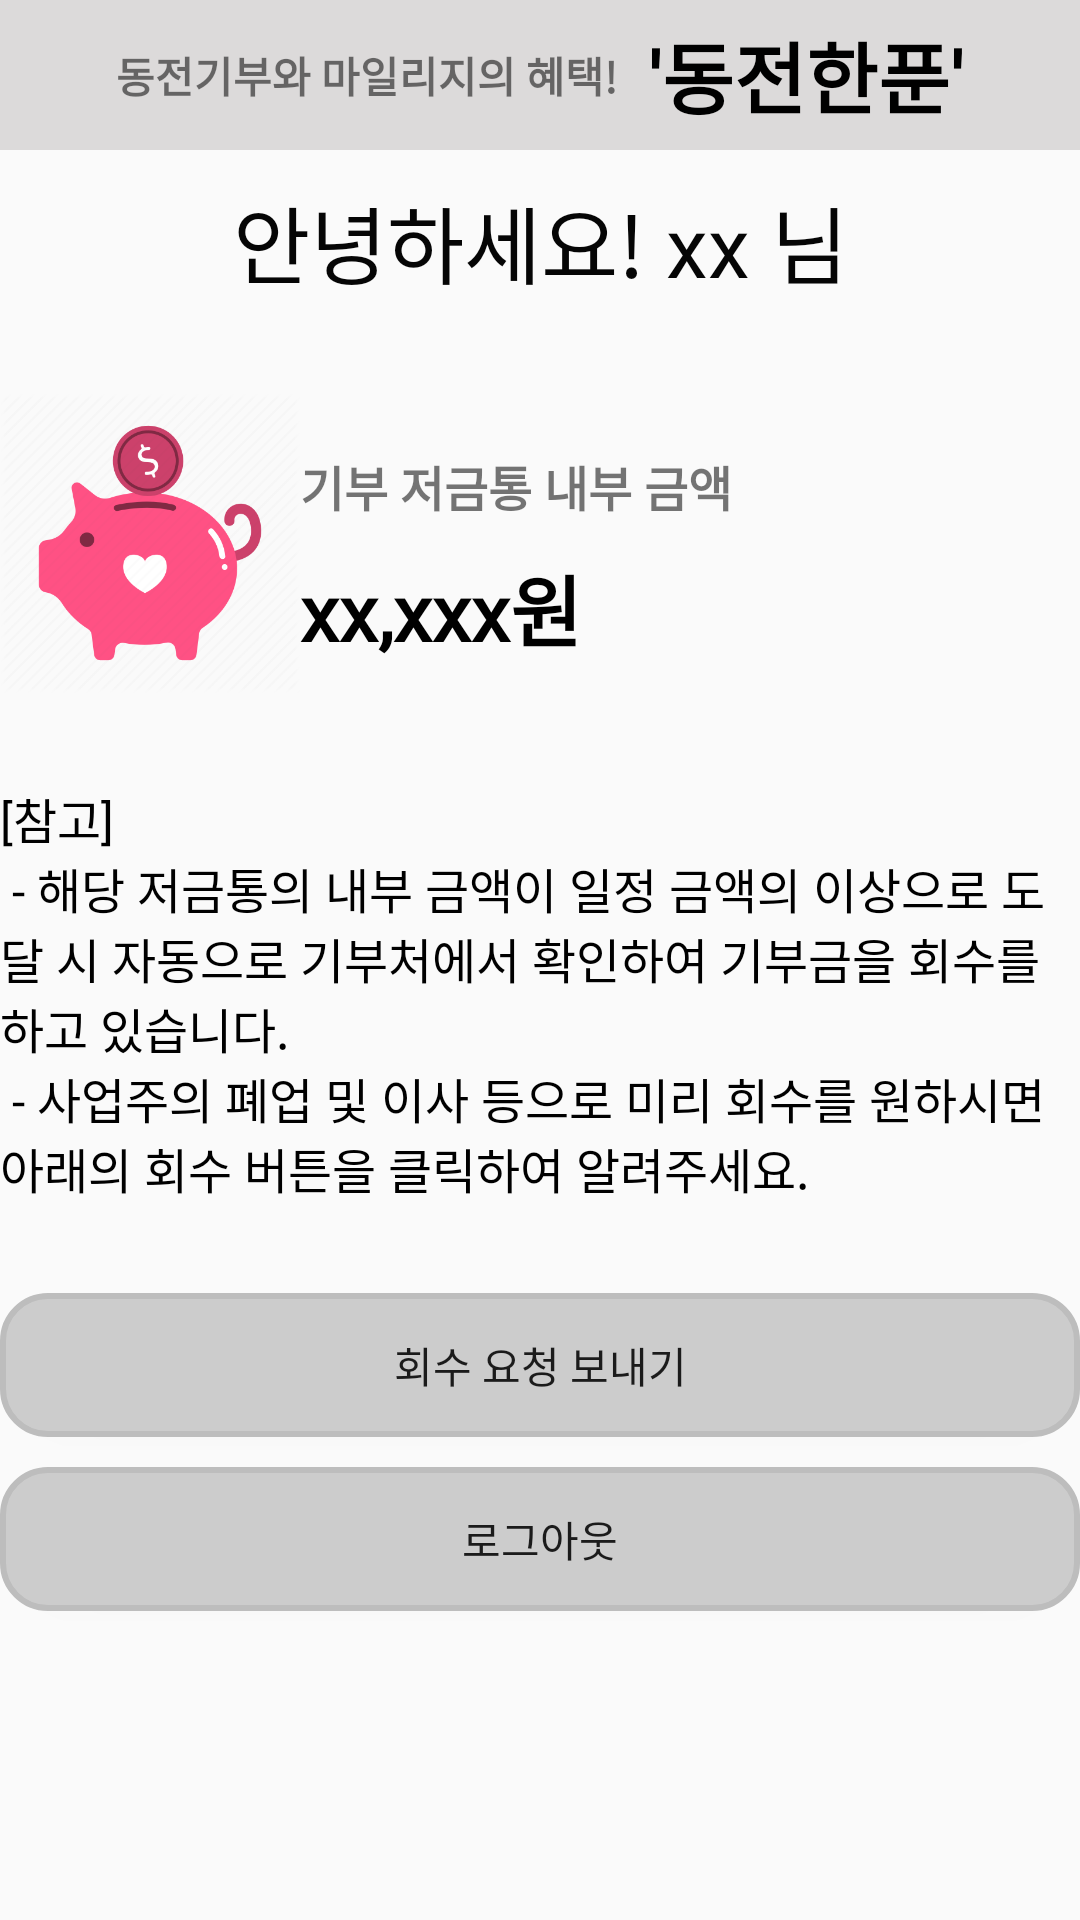

Where to tap for icons on this 1080*1920 app screen, as [x,y]:
donation piggy: [150,543]
